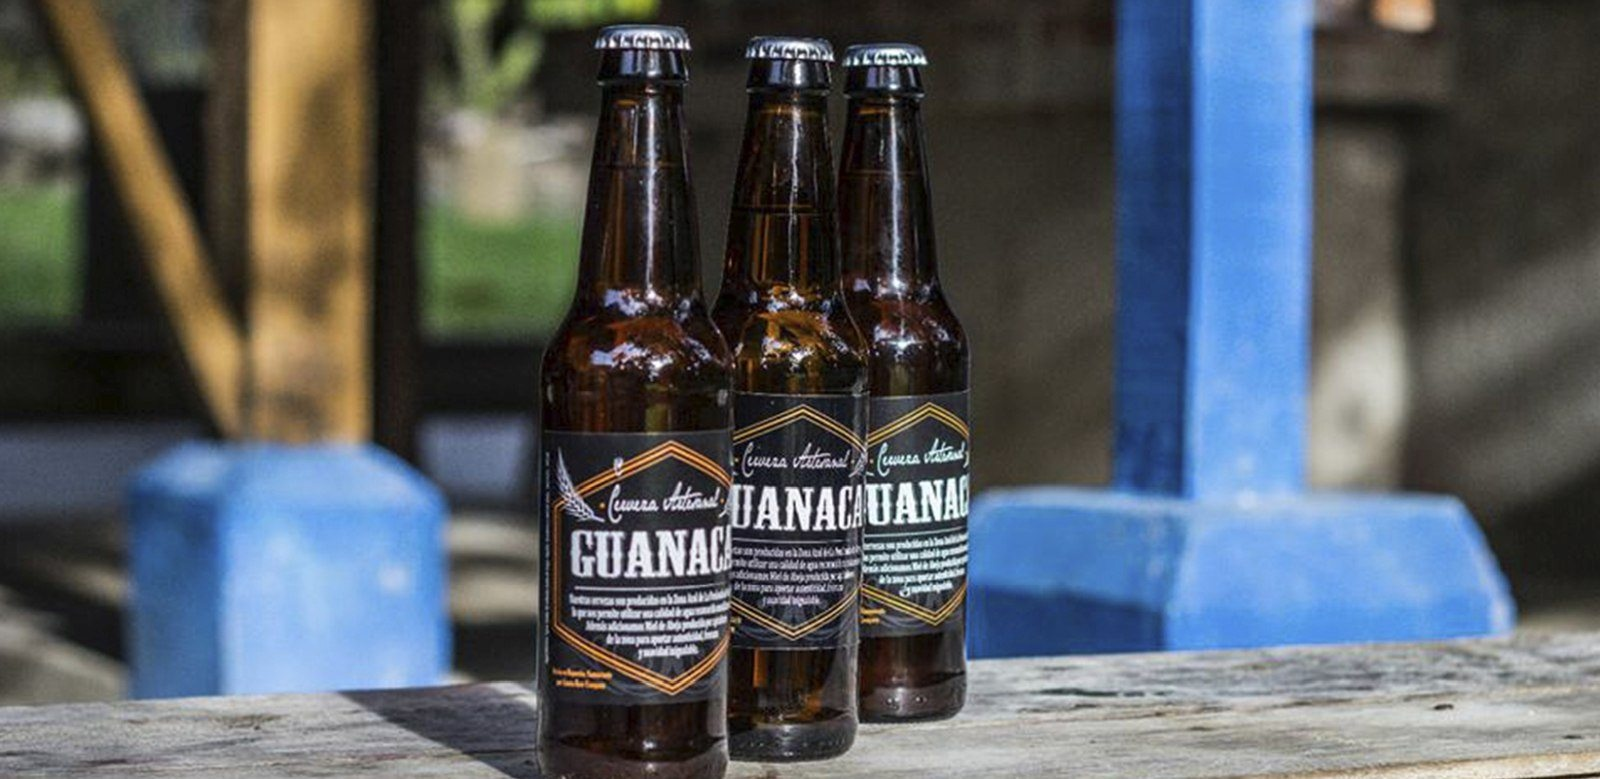beerBottle: (544, 19, 729, 779), (738, 36, 866, 762), (871, 38, 969, 739)
